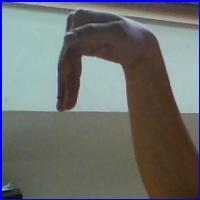del: (54, 4, 167, 116)
